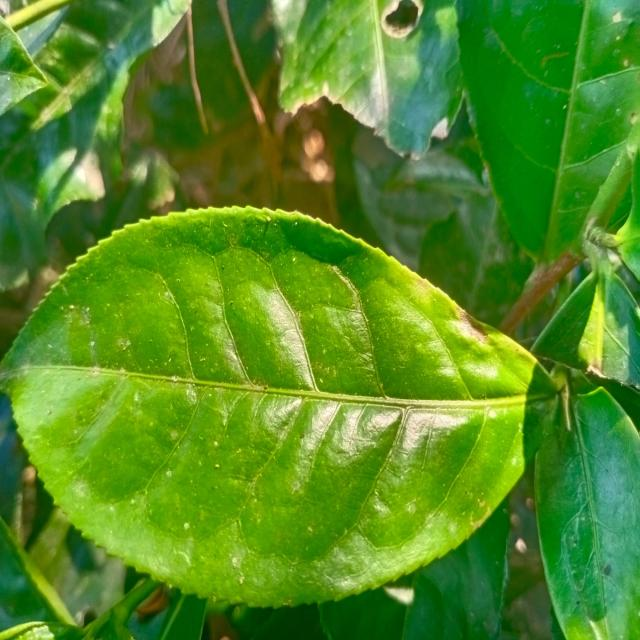Category D(7+ days, Not for Tea): (0, 197, 562, 628)
